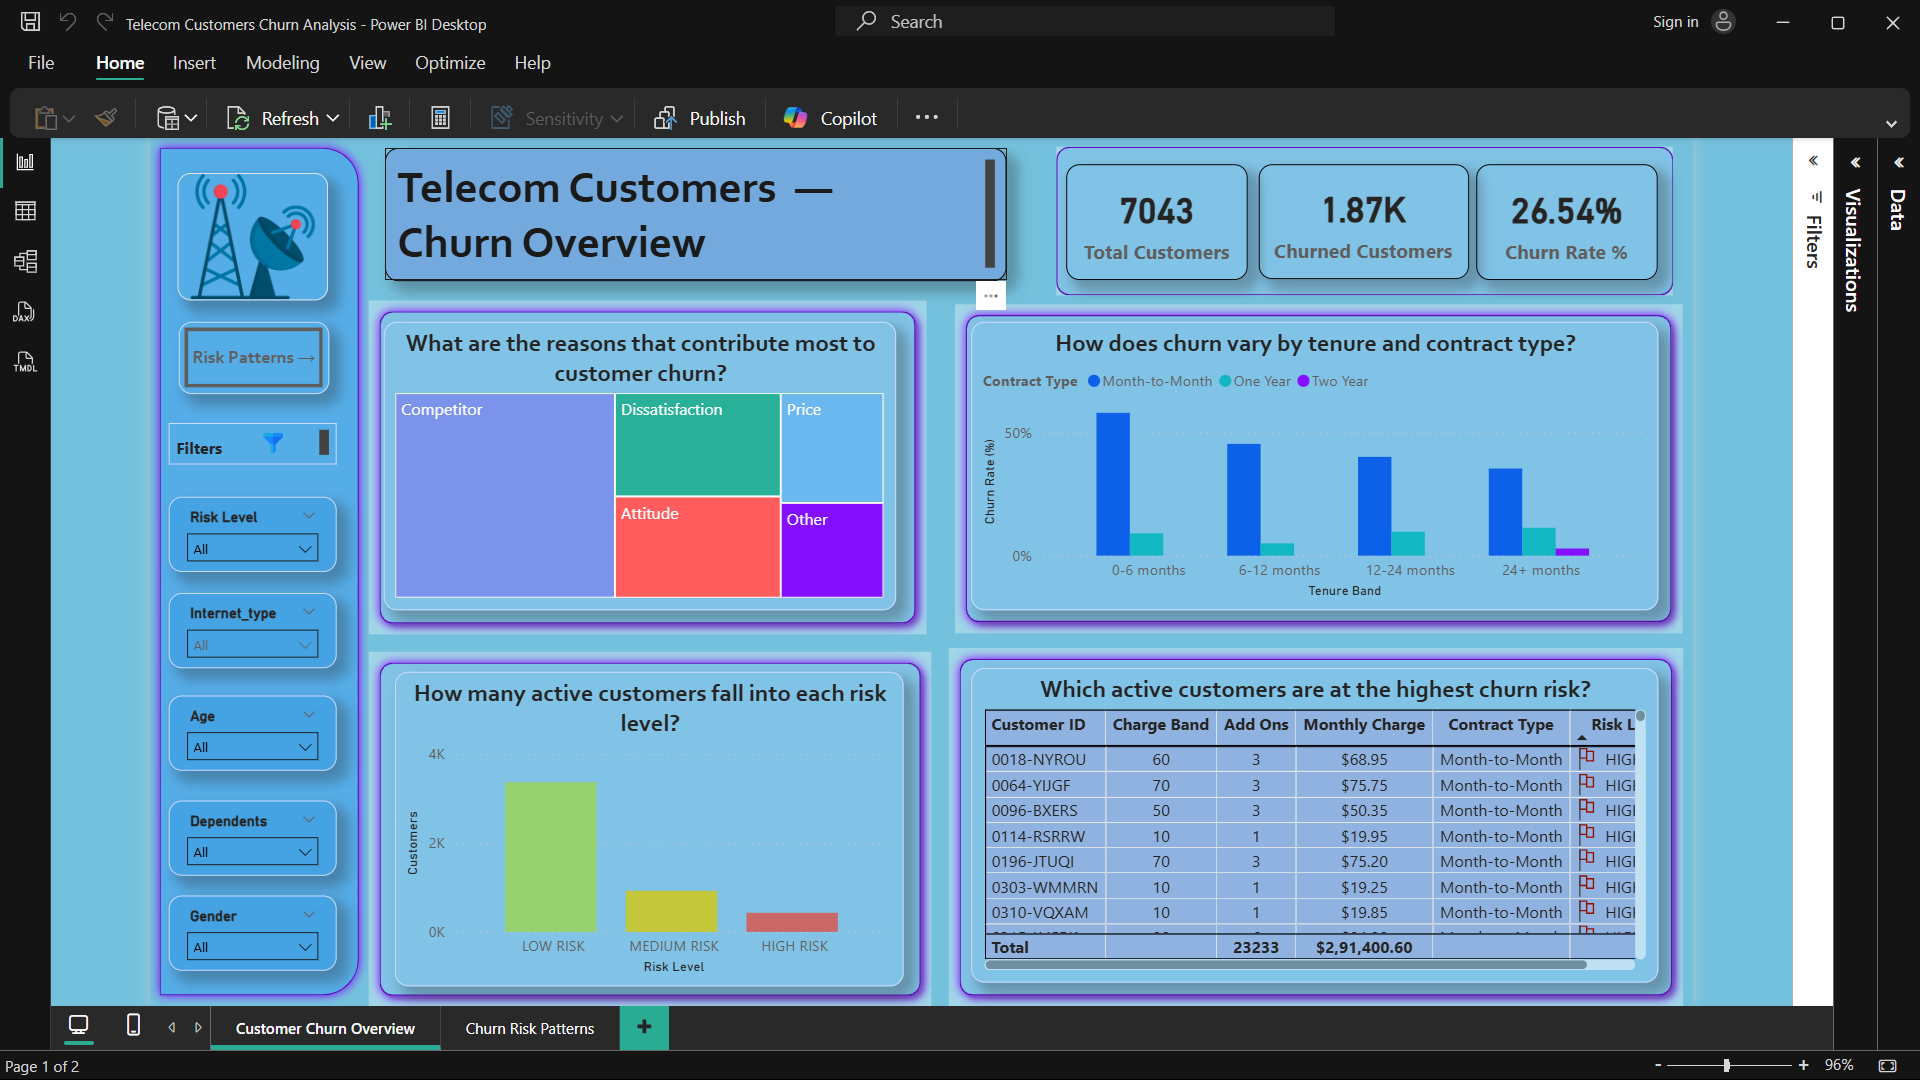

The page's visual inventory and layout, read from the dashboard file:
{"tool":"powerbi","page":{"name":"Customer Churn Overview","canvas":[1280,720],"ordinal":0},"visuals":[{"type":"shape","box":[0,0,181.2,718.8],"z":0},{"type":"shape","box":[181.2,134.8,462.3,276.8],"z":0,"group":"g1"},{"type":"group","id":"g1","title":"Group 1","box":[181.2,7.2,1089.9,713],"z":1000},{"type":"shape","box":[667,137.5,602.9,272.5],"z":1000,"group":"g1"},{"type":"card","fields":{"Values":["Sum(kpi_cards_overview.Total_customers)"]},"box":[759.7,22.1,150.6,96.1],"z":2000},{"type":"shape","box":[181.2,425.9,466.7,294.2],"z":2000,"group":"g1"},{"type":"card","fields":{"Values":["Sum(kpi_cards_overview.Churned_customers)"]},"box":[919.5,22.1,174,94.8],"z":3000},{"type":"shape","box":[662.3,423,608.7,297.1],"z":3000,"group":"g1"},{"type":"shape","box":[750.7,7.2,511.6,123.2],"z":4000,"group":"g1"},{"type":"card","fields":{"Values":["kpi_cards_overview.Churn Rate %"]},"box":[1100,22.1,150.6,96.1],"z":4000},{"type":"tableEx","title":"Which active customers are at the highest churn risk?","fields":{"Values":["risk_overview.Customer_ID","risk_overview.Charge_Band","Sum(risk_overview.Add_ons)","Sum(risk_overview.Monthly_charge)","risk_overview.Contract_type","risk_overview.Churn_risk_level"]},"box":[681.2,439.1,569.6,260.9],"z":5000},{"type":"slicer","fields":{"Values":["risk_overview.Churn_risk_level"]},"box":[15.9,297.1,139.1,62.3],"z":6000},{"type":"clusteredColumnChart","title":"How many active customers fall into each risk level?","fields":{"Category":["telecom_customers_churn.Risk Level"],"Y":["CountNonNull(telecom_customers_churn.Customer_ID)"]},"box":[202.9,442,421.7,260.9],"z":7000},{"type":"clusteredColumnChart","title":"How does churn vary by tenure and contract type?","fields":{"Category":["telecom_customers_churn.Tenure Band"],"Series":["telecom_customers_churn.Contract_type"],"Y":["telecom_customers_churn.Churn_Rate %"]},"box":[681.2,152.2,569.6,239.1],"z":8000},{"type":"slicer","fields":{"Values":["telecom_customers_churn.Internet_type"]},"box":[15.9,376.8,139.1,62.3],"z":9000},{"type":"treemap","title":"What are the reasons that contribute most to customer churn?","fields":{"Group":["telecom_customers_churn.Churn_category"],"Values":["telecom_customers_churn.Churned_Customers"]},"box":[194.2,152.2,424.6,239.1],"z":10000},{"type":"slicer","fields":{"Values":["telecom_customers_churn.Age"]},"box":[15.9,462.3,139.1,62.3],"z":11000},{"type":"slicer","fields":{"Values":["telecom_customers_churn.Dependents"]},"box":[15.9,549.3,139.1,62.3],"z":12000},{"type":"slicer","fields":{"Values":["telecom_customers_churn.Gender"]},"box":[15.9,627.5,139.1,62.3],"z":13000},{"type":"image","box":[23.2,29,124.6,105.8],"z":14000},{"type":"textbox","box":[15.9,236.2,139.1,34.8],"z":15000},{"type":"image","box":[72.5,244.9,59.4,17.4],"z":16000},{"type":"textbox","box":[194.8,7.8,515.6,110.4],"z":17000},{"type":"actionButton","box":[23.4,151.9,124.7,59.7],"z":18000}]}

Visuals, with their boxes on the page's 1280x720 design canvas (x1, y1, x2, y2). These are canvas units, not pixel positions in the 1920x1080 screenshot, which may show the page scaled, cropped or inside an application window:
shape: x1=0 y1=0 x2=181 y2=719
shape: x1=181 y1=135 x2=644 y2=412
"Group 1" group: x1=181 y1=7 x2=1271 y2=720
shape: x1=667 y1=138 x2=1270 y2=410
card - Sum(kpi_cards_overview.Total_customers): x1=760 y1=22 x2=910 y2=118
shape: x1=181 y1=426 x2=648 y2=720
card - Sum(kpi_cards_overview.Churned_customers): x1=920 y1=22 x2=1094 y2=117
shape: x1=662 y1=423 x2=1271 y2=720
shape: x1=751 y1=7 x2=1262 y2=130
card - kpi_cards_overview.Churn Rate %: x1=1100 y1=22 x2=1251 y2=118
"Which active customers are at the highest churn risk?" tableEx: x1=681 y1=439 x2=1251 y2=700
slicer - risk_overview.Churn_risk_level: x1=16 y1=297 x2=155 y2=359
"How many active customers fall into each risk level?" clusteredColumnChart: x1=203 y1=442 x2=625 y2=703
"How does churn vary by tenure and contract type?" clusteredColumnChart: x1=681 y1=152 x2=1251 y2=391
slicer - telecom_customers_churn.Internet_type: x1=16 y1=377 x2=155 y2=439
"What are the reasons that contribute most to customer churn?" treemap: x1=194 y1=152 x2=619 y2=391
slicer - telecom_customers_churn.Age: x1=16 y1=462 x2=155 y2=525
slicer - telecom_customers_churn.Dependents: x1=16 y1=549 x2=155 y2=612
slicer - telecom_customers_churn.Gender: x1=16 y1=628 x2=155 y2=690
image: x1=23 y1=29 x2=148 y2=135
textbox: x1=16 y1=236 x2=155 y2=271
image: x1=72 y1=245 x2=132 y2=262
textbox: x1=195 y1=8 x2=710 y2=118
actionButton: x1=23 y1=152 x2=148 y2=212
